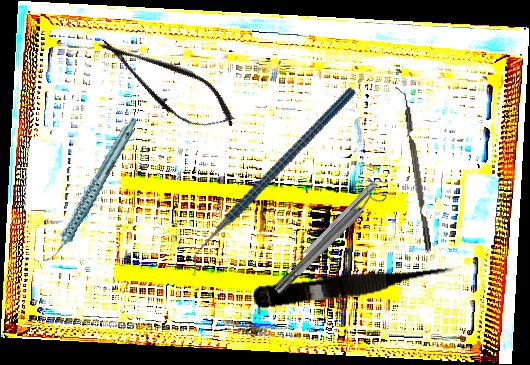Chopper: (148, 86, 397, 277), (394, 84, 432, 252)
Fixation Ring: (268, 181, 389, 300)
Handpiece: (17, 115, 165, 266)
Micro Scissor: (87, 21, 246, 146), (251, 258, 461, 315)
Spatula Surgical: (251, 180, 383, 317)
